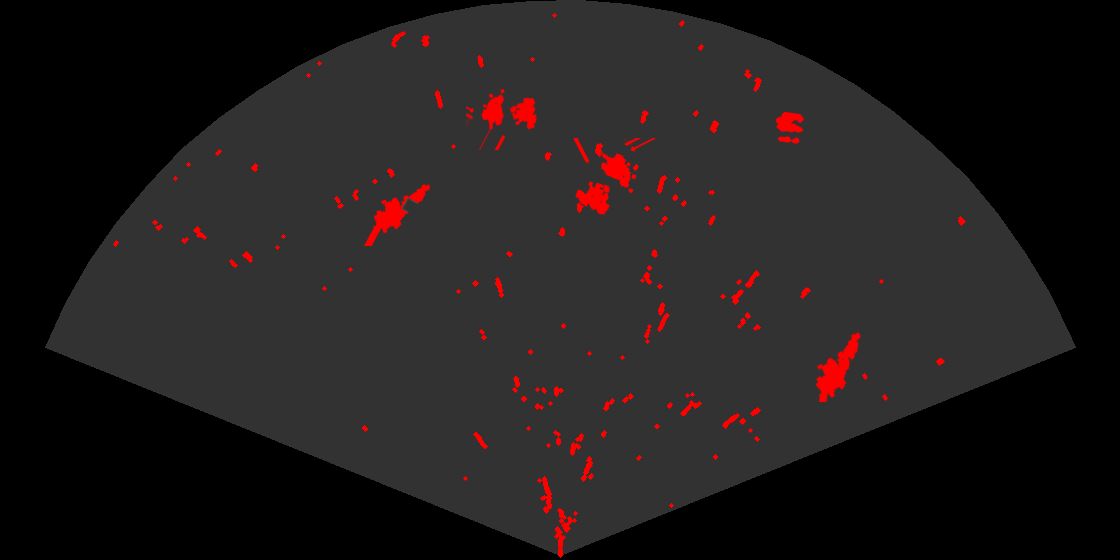ball: (774, 110, 806, 145)
cage: (572, 138, 657, 216), (466, 87, 539, 150)
frogman: (363, 183, 432, 246), (814, 330, 862, 402)
